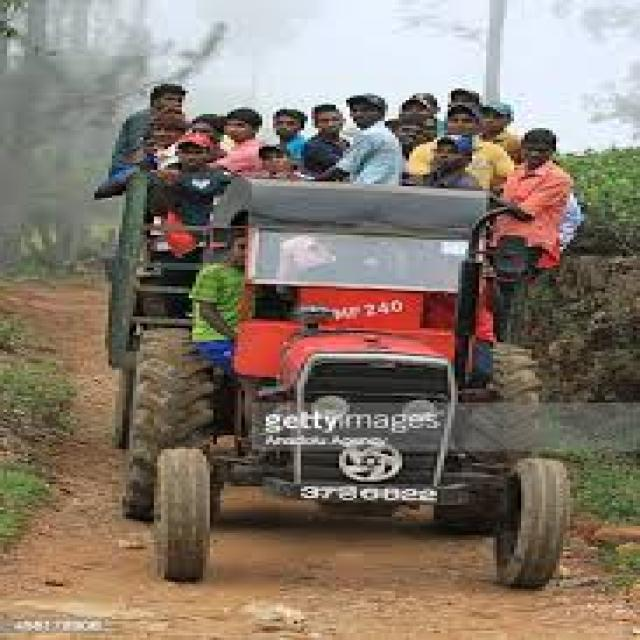person: (493, 128, 570, 323), (406, 105, 511, 191), (189, 226, 245, 372), (108, 84, 182, 177), (322, 95, 399, 184), (154, 133, 227, 223), (304, 105, 346, 179), (423, 135, 476, 189), (217, 107, 259, 175), (483, 105, 518, 163), (147, 112, 185, 163), (395, 112, 434, 158), (273, 109, 304, 165), (189, 114, 220, 161), (259, 147, 294, 177), (402, 93, 434, 116), (451, 88, 479, 105)
tractor: (108, 172, 637, 586)
